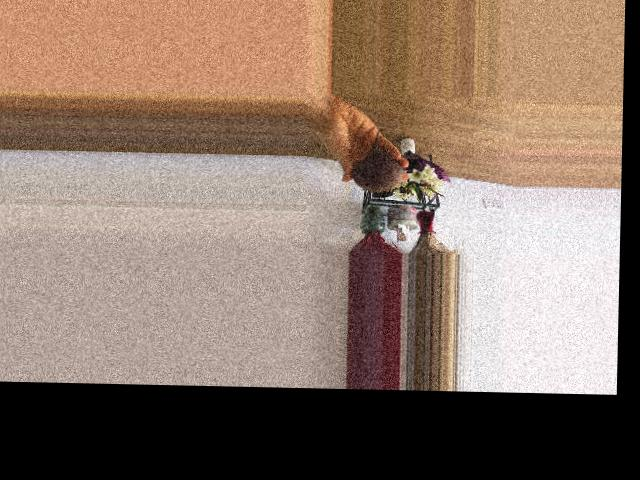beet: (352, 127, 405, 198)
